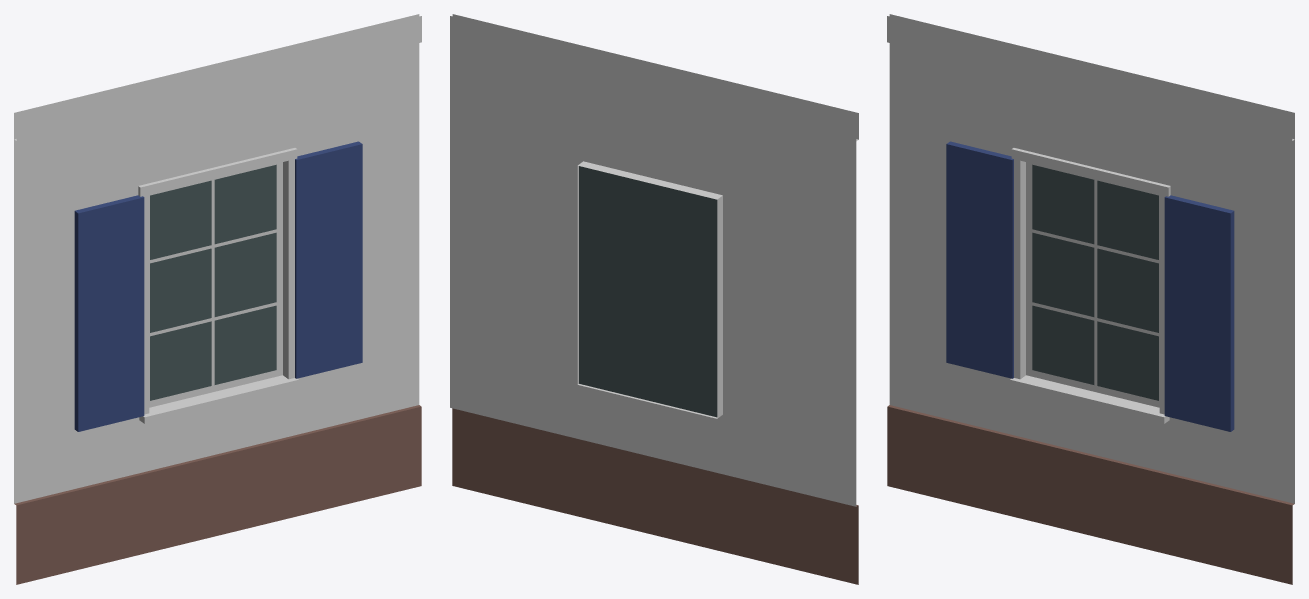
3 views of the same model, side by side, from view 1: azimuth 30°, elevation 25°; view 2: azimuth 150°, elevation 25°; view 3: azimuth 330°, elevation 25° (orthographic).
Parts seen in each view (by area): view 1: a2000/600/base-w1; view 2: a2000/600/base-w1; view 3: a2000/600/base-w1.
Boxes of the visible parts, x1,y1,x2,y2 form: a2000/600/base-w1: (14, 14, 421, 584); a2000/600/base-w1: (450, 14, 858, 584); a2000/600/base-w1: (887, 14, 1294, 584).
Size of the model in its own units: 3.2 by 3.55 by 0.15.
